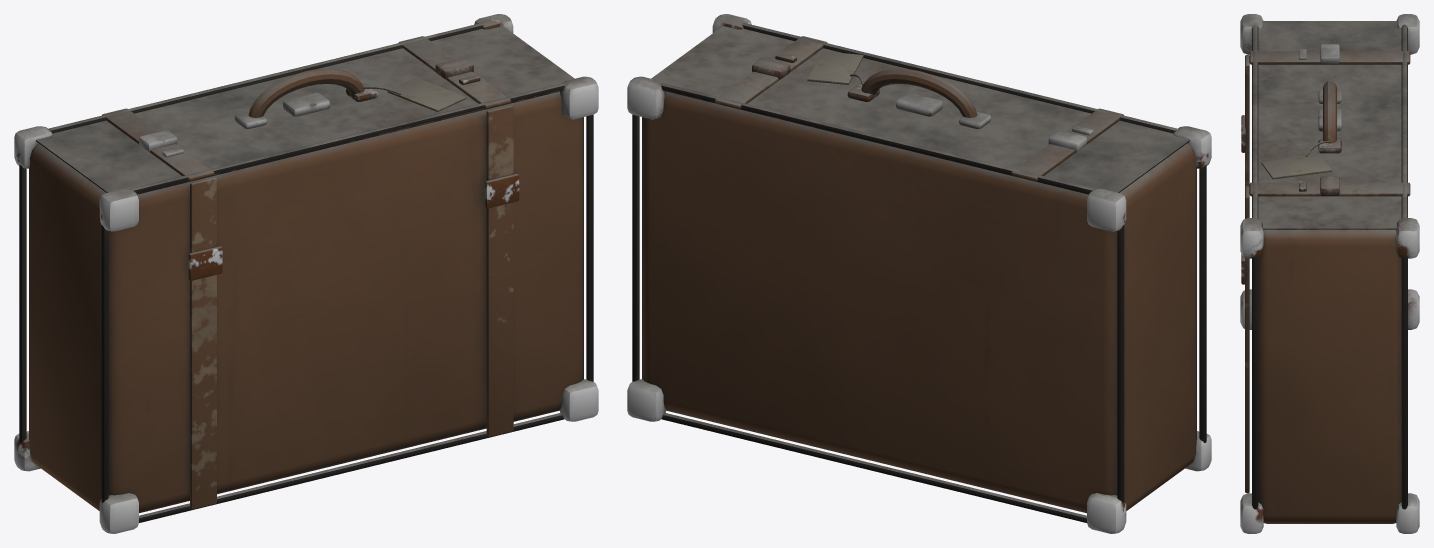
File: SM_Suitcase_Old.fbx
3 views of the same model, side by side, from view 1: azimuth 30°, elevation 25°; view 2: azimuth 150°, elevation 25°; view 3: azimuth 270°, elevation 25° (orthographic). The views are drawn at different scales.
Parts seen in each view (by area): view 1: SM_Suitcase_Old; view 2: SM_Suitcase_Old; view 3: SM_Suitcase_Old.
Boxes of the visible parts, bbox=[...] form: SM_Suitcase_Old: bbox=[14, 14, 598, 533]; SM_Suitcase_Old: bbox=[627, 14, 1211, 533]; SM_Suitcase_Old: bbox=[1240, 14, 1419, 533].
Size of the model in its own units: 0.665 by 0.4776 by 0.23.
Materials: 1 (1 with a texture image).
